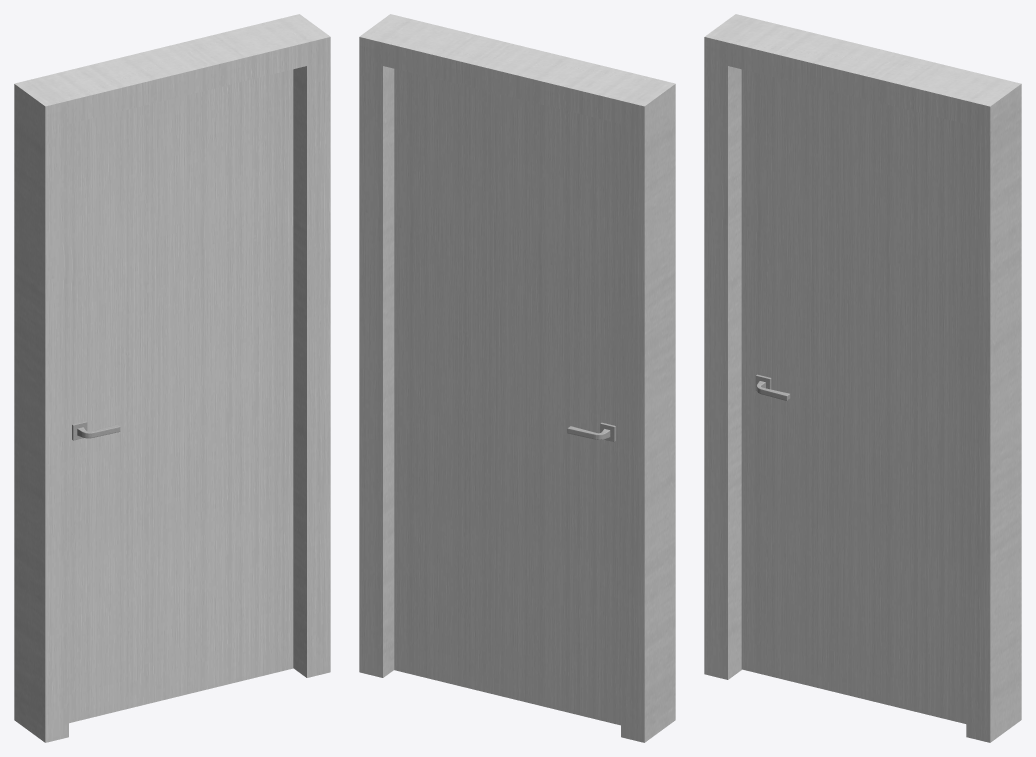
File: Door.FBX
3 renders of one model, left to right at view 1: azimuth 30°, elevation 25°; view 2: azimuth 150°, elevation 25°; view 3: azimuth 330°, elevation 25°, orthographic.
Visible parts, largest first — view 1: Door, door frame; view 2: Door, door frame; view 3: Door, door frame.
Part boxes in pixels (x1,y1,x2,y2): Door: (69, 69, 293, 723); door frame: (14, 14, 330, 742); Door: (394, 69, 620, 725); door frame: (359, 14, 675, 742); Door: (741, 69, 966, 723); door frame: (704, 14, 1021, 742).
Size of the model in its own units: 107 by 229 by 20.33.
2 materials, 2 textured.
